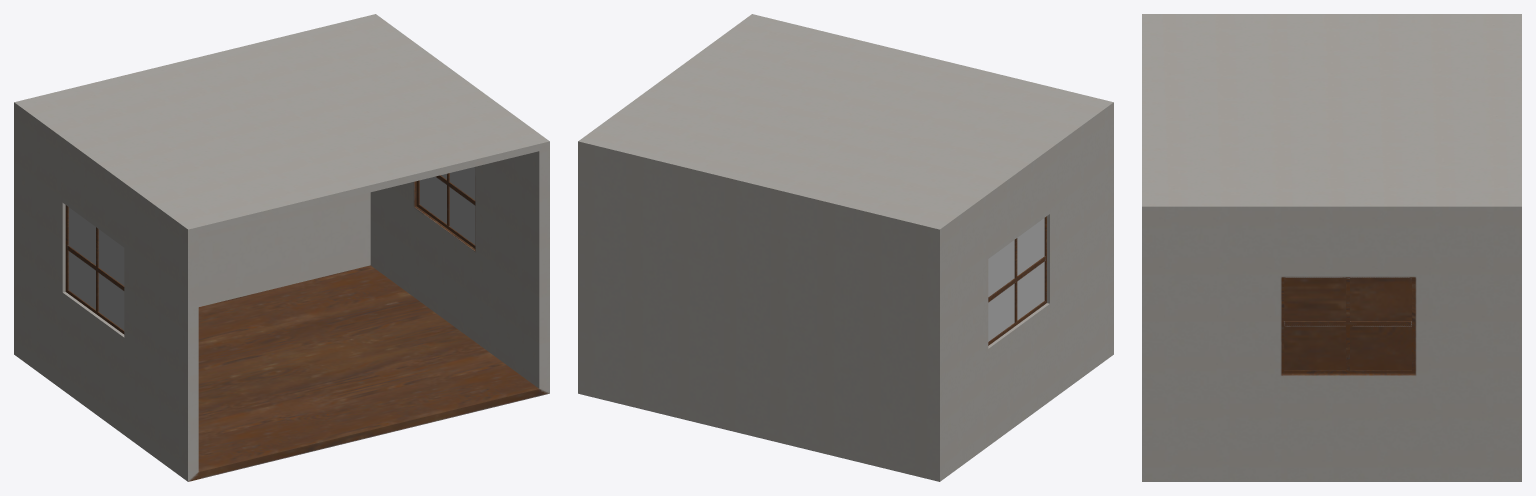
The model's file is Room.fbx.
The picture shows the model from 3 angles, left to right: view 1: azimuth 30°, elevation 25°; view 2: azimuth 150°, elevation 25°; view 3: azimuth 270°, elevation 25°; orthographic projection. The views are drawn at different scales.
Parts seen in each view (by area): view 1: Room; view 2: Room; view 3: Room.
Boxes of the visible parts, x1,y1,x2,y2 form: Room: (14,14,549,481); Room: (578,14,1113,481); Room: (1142,14,1521,481).
Size of the model in its own units: 366 by 244 by 305.
1 material, 1 textured.
